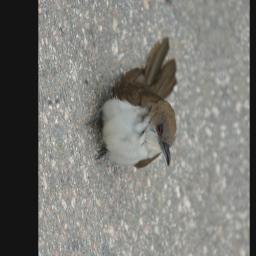Cuckoo: (73, 35, 192, 183)
